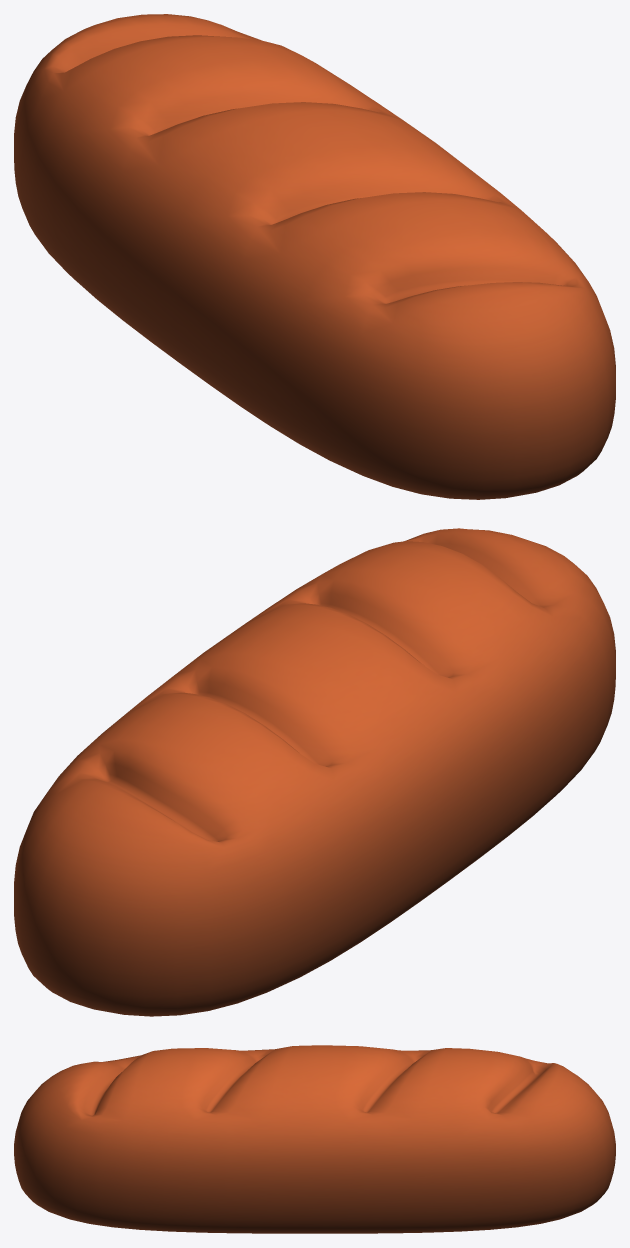
Rendered from BreadPlain.glb.
The picture shows the model from 3 angles, top to bottom: view 1: azimuth 30°, elevation 25°; view 2: azimuth 150°, elevation 25°; view 3: azimuth 270°, elevation 25°; orthographic projection. The views are drawn at different scales.
Parts seen in each view (by area): view 1: BreadPlain; view 2: BreadPlain; view 3: BreadPlain.
Boxes of the visible parts, x1=… form: BreadPlain: x1=14, y1=14, x2=615, y2=499; BreadPlain: x1=14, y1=528, x2=615, y2=1016; BreadPlain: x1=14, y1=1045, x2=615, y2=1233.
Size of the model in its own units: 0.1751 by 0.1204 by 0.4637.
1 material, 1 textured.
